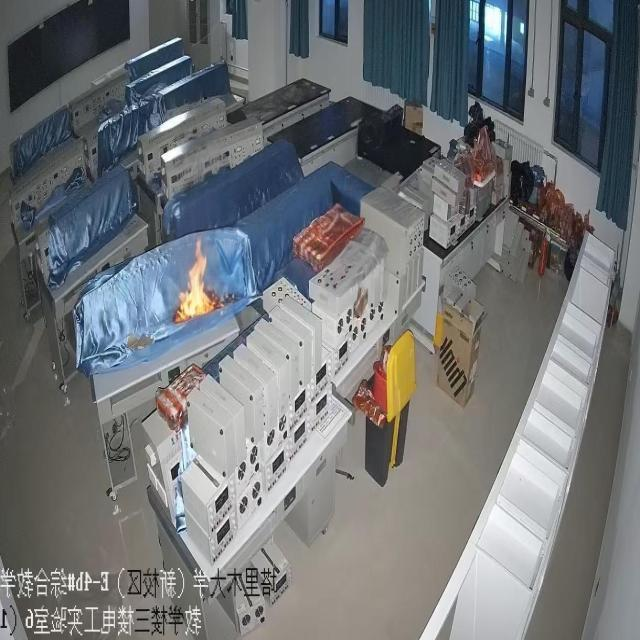smoke: (172, 224, 225, 334)
